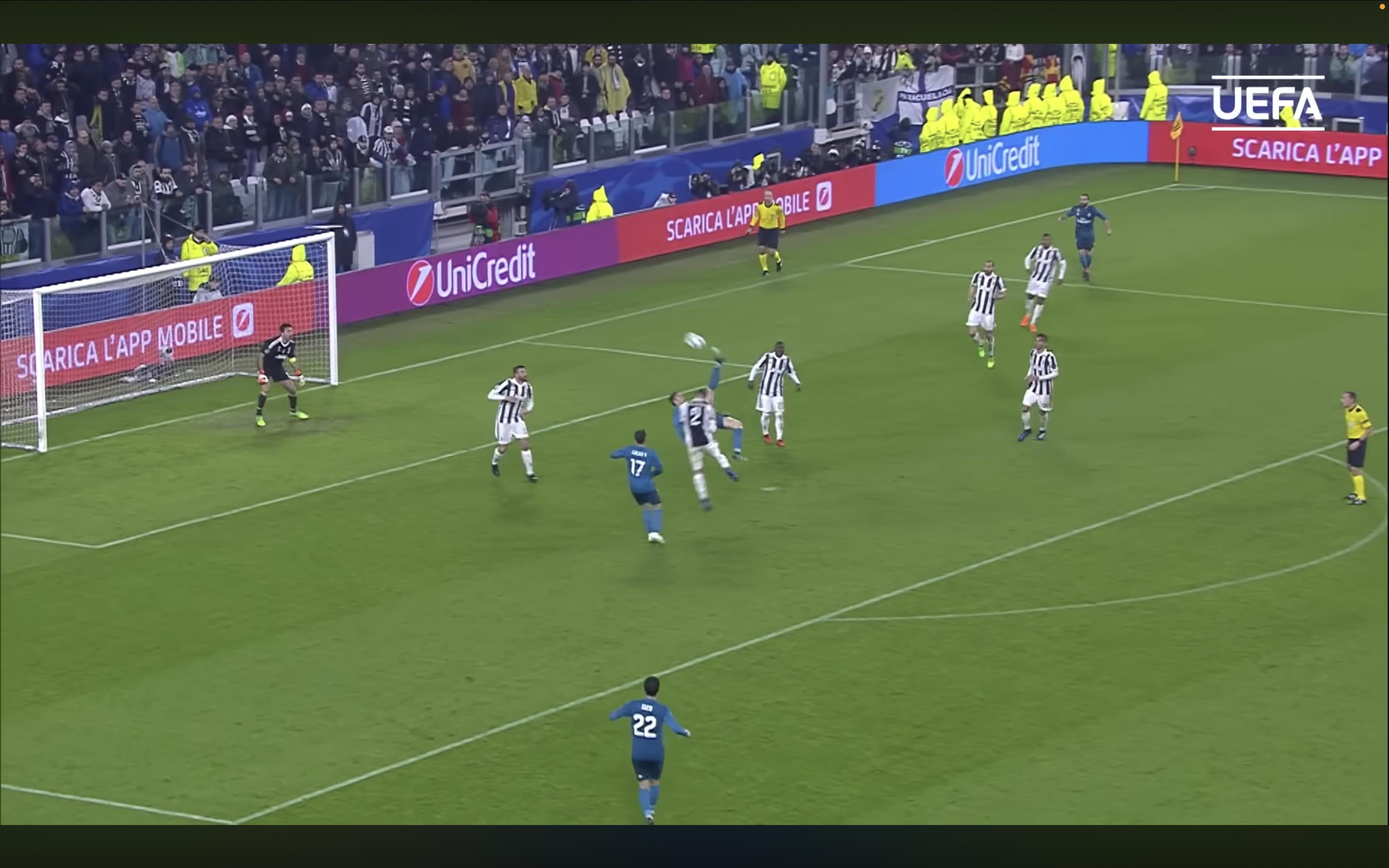ball: (685, 332, 706, 349)
goalkeeper: (256, 324, 308, 427)
player: (610, 677, 691, 824), (670, 389, 738, 510), (611, 430, 664, 544), (748, 341, 802, 446), (488, 365, 536, 482), (1058, 194, 1112, 281), (1017, 333, 1059, 442), (1020, 234, 1065, 332), (966, 261, 1006, 368), (716, 410, 745, 459)
referee: (1341, 392, 1372, 505), (747, 189, 785, 276)
